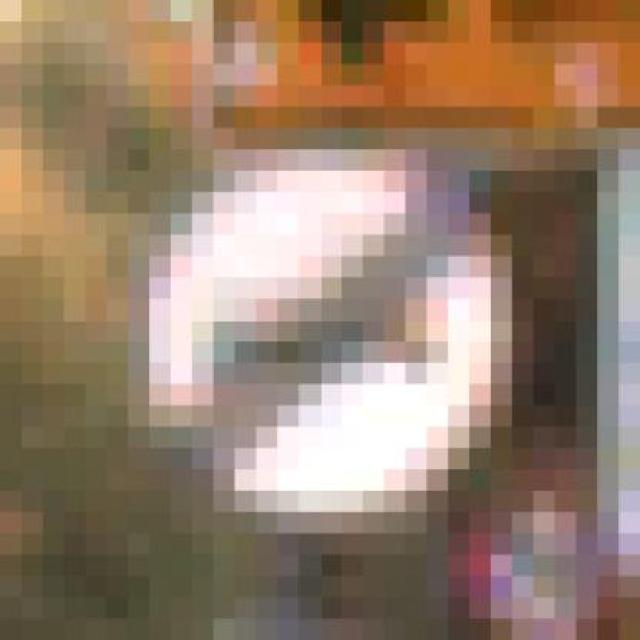No_Over_Taking: (64, 107, 576, 576)
